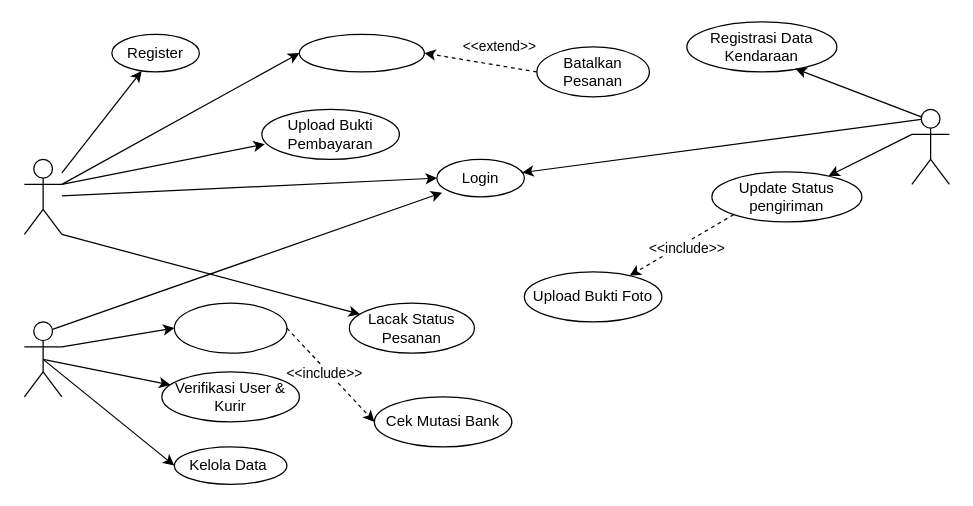
This 973x506 diagram has some shape labels left out. The shapes that lost their labels are listed below. From the top down, each one's box as (x1, y1, x2, y2) in pixels, then its label:
(298, 33, 424, 72): Order Layanan
(911, 108, 949, 184): Kurir
(23, 158, 62, 234): User
(173, 302, 287, 353): Validasi Pembayaran
(23, 321, 62, 397): Admin
